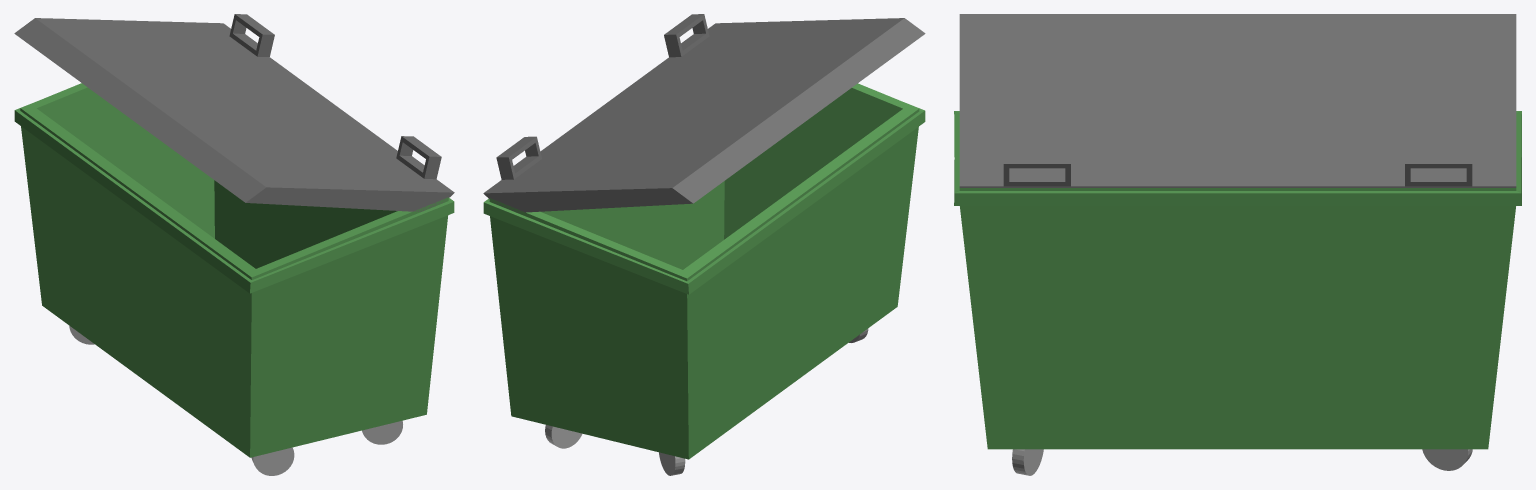
The model's file is CONTAINER.fbx.
3 renders of one model, left to right at view 1: azimuth 30°, elevation 25°; view 2: azimuth 150°, elevation 25°; view 3: azimuth 270°, elevation 25°, orthographic. The views are drawn at different scales.
Visible parts, largest first — view 1: Cube.012; view 2: Cube.012; view 3: Cube.012.
Part boxes in pixels (<box>): Cube.012: <box>14,14,454,475</box>; Cube.012: <box>483,14,925,475</box>; Cube.012: <box>954,14,1521,475</box>.
Bounding box in the file's own units: 313 × 434 × 596.
